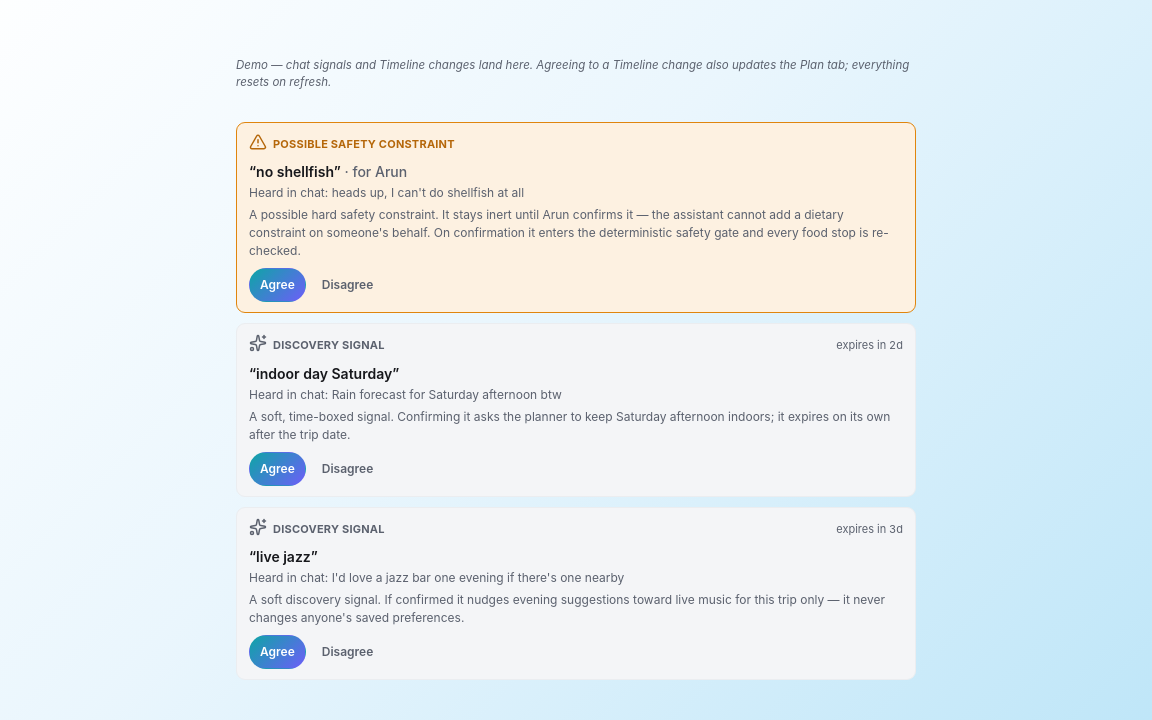
DemoDecisions › resolves a decision after Agree then a star pick
The image size is (1152, 720).
(page scrolled)
Click the button "Agree" below "live jazz" at (277, 652), box x1=249 y1=635 x2=306 y2=669
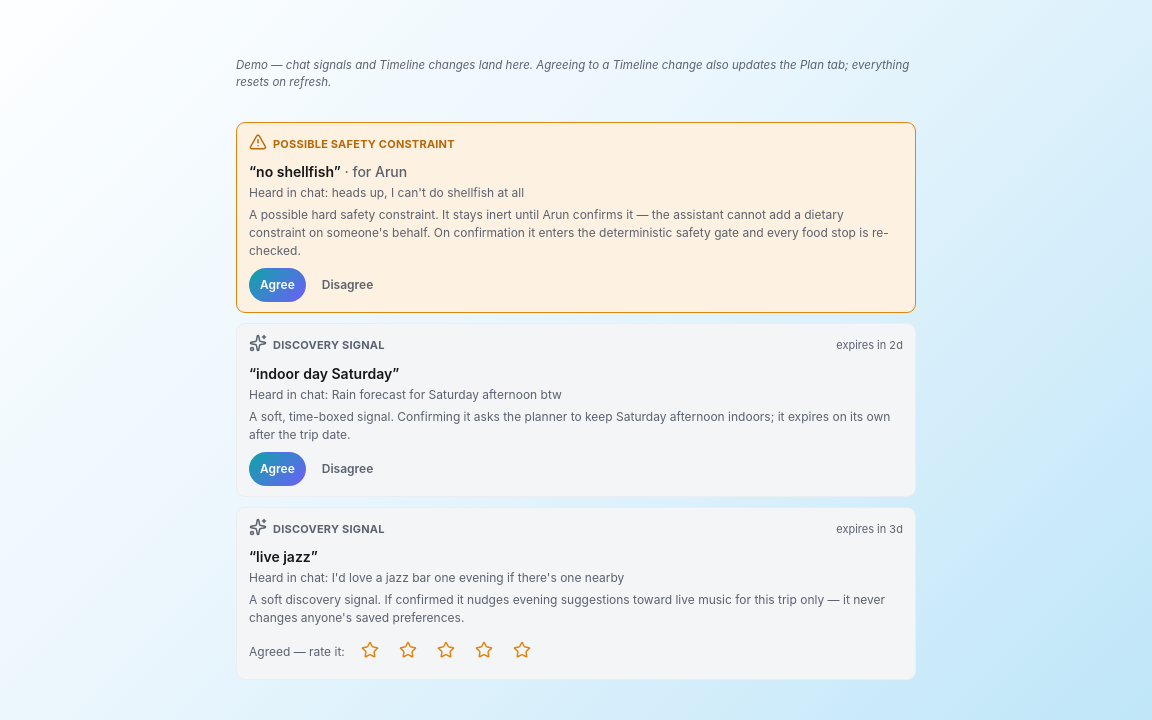
Click the button named "Rate 4 stars" at (484, 652), box x1=467 y1=635 x2=501 y2=669
(page scrolled)
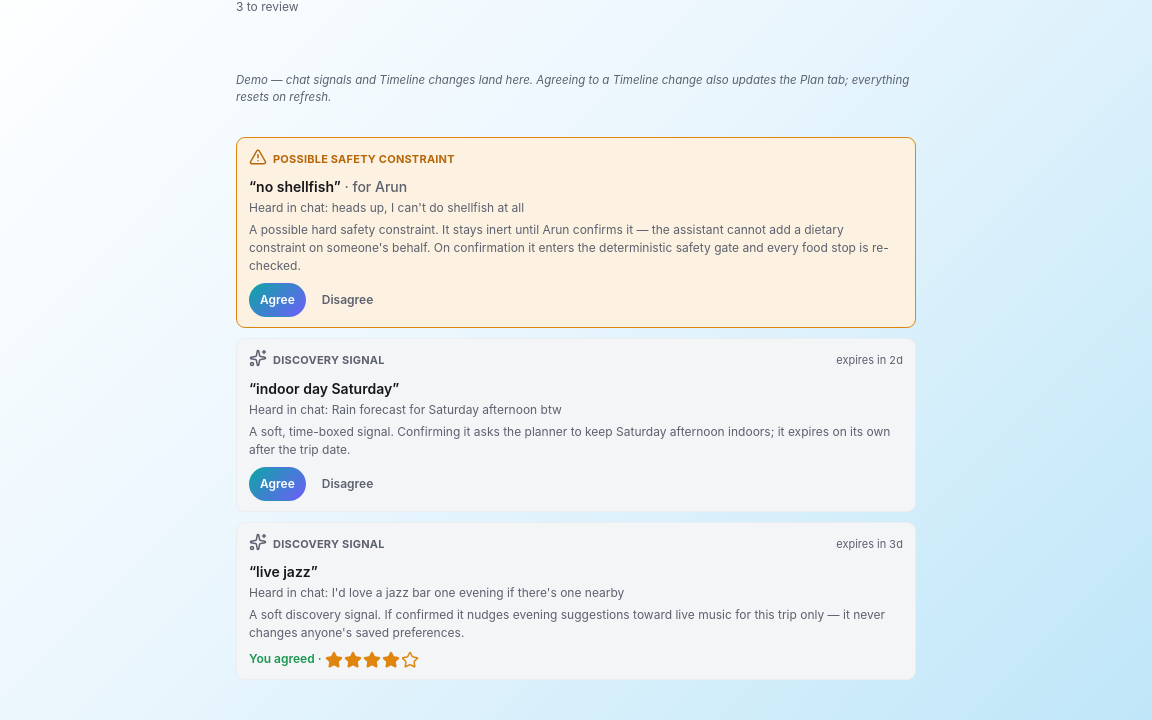
Result: the text "You agreed ·" is shown at x1=249 y1=651 x2=418 y2=669
Result: the picture named "4 out of 5 stars" is shown at x1=324 y1=651 x2=418 y2=669
